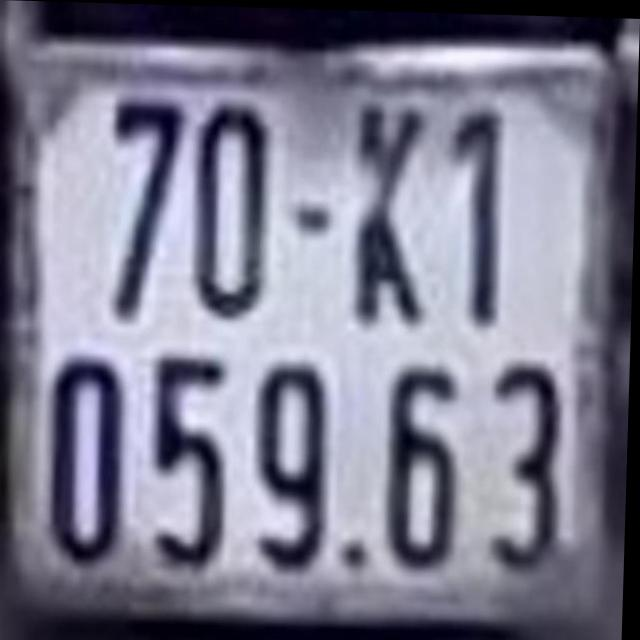0: (194, 102, 273, 320), (50, 351, 122, 561)
1: (455, 105, 516, 321)
3: (481, 352, 567, 576)
5: (154, 353, 240, 563)
6: (377, 360, 461, 557)
7: (92, 97, 189, 328)
9: (248, 353, 336, 568)
K: (349, 101, 445, 320)
